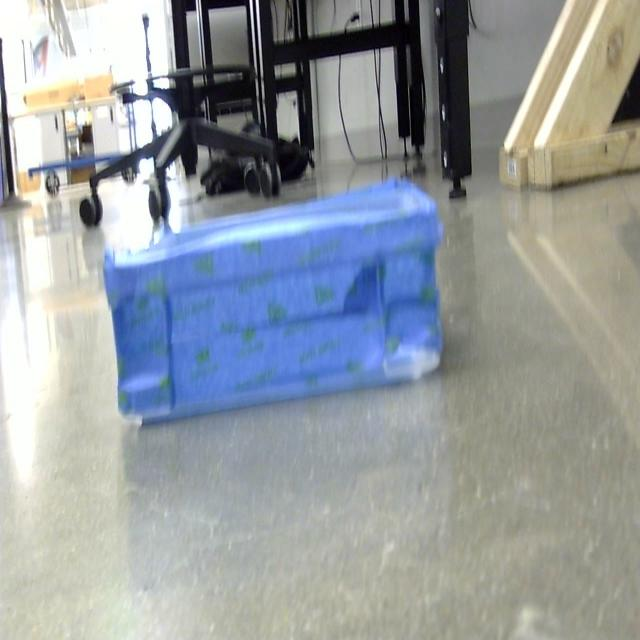bucket: (102, 179, 444, 427)
